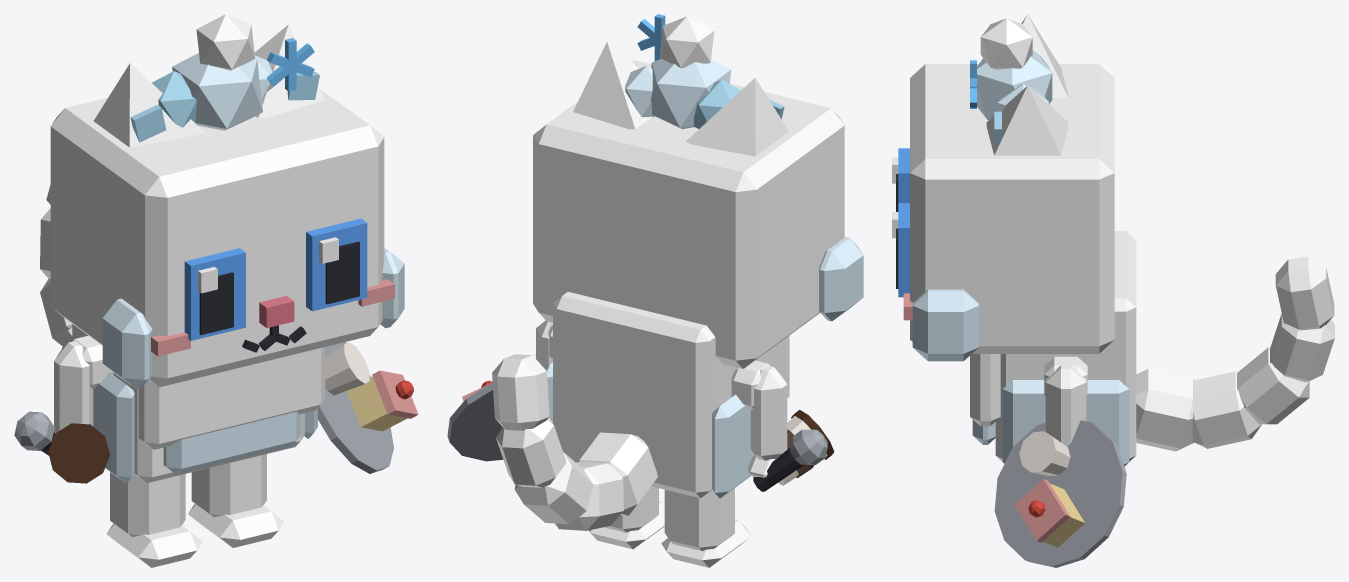
Rendered from CatCafe_Cat_Snowball_Work.glb.
3 views of the same model, side by side, from view 1: azimuth 30°, elevation 25°; view 2: azimuth 150°, elevation 25°; view 3: azimuth 270°, elevation 25° (orthographic). The views are drawn at different scales.
Visible parts, largest first — view 1: CatCafe_Cat_Snowball_Work_Head, CatCafe_Cat_Snowball_Work_Body, CatCafe_Cat_Snowball_Work_Prop, CatCafe_Cat_Snowball_Work_Held_Waiter, CatCafe_Cat_Snowball_Work_LegB2, CatCafe_Cat_Snowball_Work_LegB1, CatCafe_Cat_Snowball_Work_Eye1, CatCafe_Cat_Snowball_Work_Eye2, CatCafe_Cat_Snowball_Work_EarR, CatCafe_Cat_Snowball_Work_LegF2, CatCafe_Cat_Snowball_Work_Held_Barista, CatCafe_Cat_Snowball_Work_EarL (+2 smaller); view 2: CatCafe_Cat_Snowball_Work_Head, CatCafe_Cat_Snowball_Work_Body, CatCafe_Cat_Snowball_Work_Tail, CatCafe_Cat_Snowball_Work_Prop, CatCafe_Cat_Snowball_Work_LegB2, CatCafe_Cat_Snowball_Work_EarR, CatCafe_Cat_Snowball_Work_EarL, CatCafe_Cat_Snowball_Work_LegF2, CatCafe_Cat_Snowball_Work_Held_Waiter, CatCafe_Cat_Snowball_Work_LegB1, CatCafe_Cat_Snowball_Work_Held_Entertainer, CatCafe_Cat_Snowball_Work_Held_Barista (+1 smaller); view 3: CatCafe_Cat_Snowball_Work_Head, CatCafe_Cat_Snowball_Work_Tail, CatCafe_Cat_Snowball_Work_Body, CatCafe_Cat_Snowball_Work_Held_Waiter, CatCafe_Cat_Snowball_Work_Prop, CatCafe_Cat_Snowball_Work_EarL, CatCafe_Cat_Snowball_Work_LegF1, CatCafe_Cat_Snowball_Work_Eye1, CatCafe_Cat_Snowball_Work_EarR, CatCafe_Cat_Snowball_Work_Eye2.
Boxes of the visible parts, box(x1,y1,x2,y2) form: CatCafe_Cat_Snowball_Work_Head: box(50, 89, 404, 388); CatCafe_Cat_Snowball_Work_Body: box(72, 324, 325, 483); CatCafe_Cat_Snowball_Work_Prop: box(151, 14, 314, 130); CatCafe_Cat_Snowball_Work_Held_Waiter: box(317, 341, 418, 473); CatCafe_Cat_Snowball_Work_LegB2: box(107, 472, 202, 567); CatCafe_Cat_Snowball_Work_LegB1: box(188, 454, 283, 547); CatCafe_Cat_Snowball_Work_Eye1: box(306, 218, 367, 311); CatCafe_Cat_Snowball_Work_Eye2: box(184, 248, 245, 340); CatCafe_Cat_Snowball_Work_EarR: box(94, 63, 204, 147); CatCafe_Cat_Snowball_Work_LegF2: box(54, 341, 93, 432); CatCafe_Cat_Snowball_Work_Held_Barista: box(48, 423, 109, 483); CatCafe_Cat_Snowball_Work_EarL: box(254, 24, 324, 118); CatCafe_Cat_Snowball_Work_Head: box(533, 60, 863, 368); CatCafe_Cat_Snowball_Work_Body: box(545, 291, 789, 498); CatCafe_Cat_Snowball_Work_Tail: box(492, 354, 657, 530); CatCafe_Cat_Snowball_Work_Prop: box(625, 14, 740, 129); CatCafe_Cat_Snowball_Work_LegB2: box(661, 488, 751, 567); CatCafe_Cat_Snowball_Work_EarR: box(686, 78, 788, 156); CatCafe_Cat_Snowball_Work_EarL: box(573, 41, 652, 129); CatCafe_Cat_Snowball_Work_LegF2: box(748, 365, 787, 477); CatCafe_Cat_Snowball_Work_Held_Waiter: box(447, 353, 535, 461); CatCafe_Cat_Snowball_Work_LegB1: box(589, 486, 664, 549); CatCafe_Cat_Snowball_Work_Held_Entertainer: box(753, 429, 827, 491); CatCafe_Cat_Snowball_Work_Held_Barista: box(776, 409, 834, 485); CatCafe_Cat_Snowball_Work_Head: box(903, 64, 1114, 361); CatCafe_Cat_Snowball_Work_Tail: box(1136, 256, 1334, 451); CatCafe_Cat_Snowball_Work_Body: box(970, 231, 1136, 466); CatCafe_Cat_Snowball_Work_Held_Waiter: box(994, 420, 1126, 567); CatCafe_Cat_Snowball_Work_Prop: box(970, 18, 1052, 120); CatCafe_Cat_Snowball_Work_EarL: box(986, 85, 1068, 155); CatCafe_Cat_Snowball_Work_LegF1: box(1045, 365, 1086, 446); CatCafe_Cat_Snowball_Work_Eye1: box(892, 203, 909, 297); CatCafe_Cat_Snowball_Work_EarR: box(1021, 14, 1068, 97); CatCafe_Cat_Snowball_Work_Eye2: box(892, 148, 909, 211).
Size of the model in its own units: 1.53 by 2.06 by 1.64.
1 material, 1 textured.
